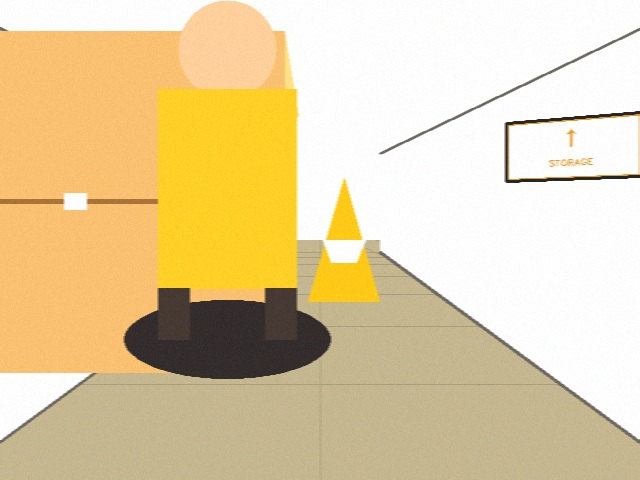box: (0, 31, 298, 372)
directional_sign: (506, 112, 639, 181)
obstacle: (308, 178, 379, 301)
person: (128, 0, 326, 339)
